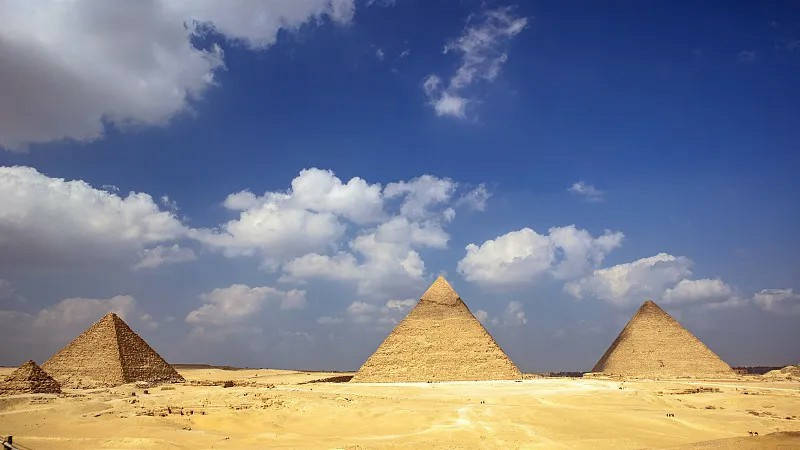Pyramid: (349, 274, 523, 382), (594, 300, 740, 377), (41, 314, 187, 386), (1, 361, 64, 395)
